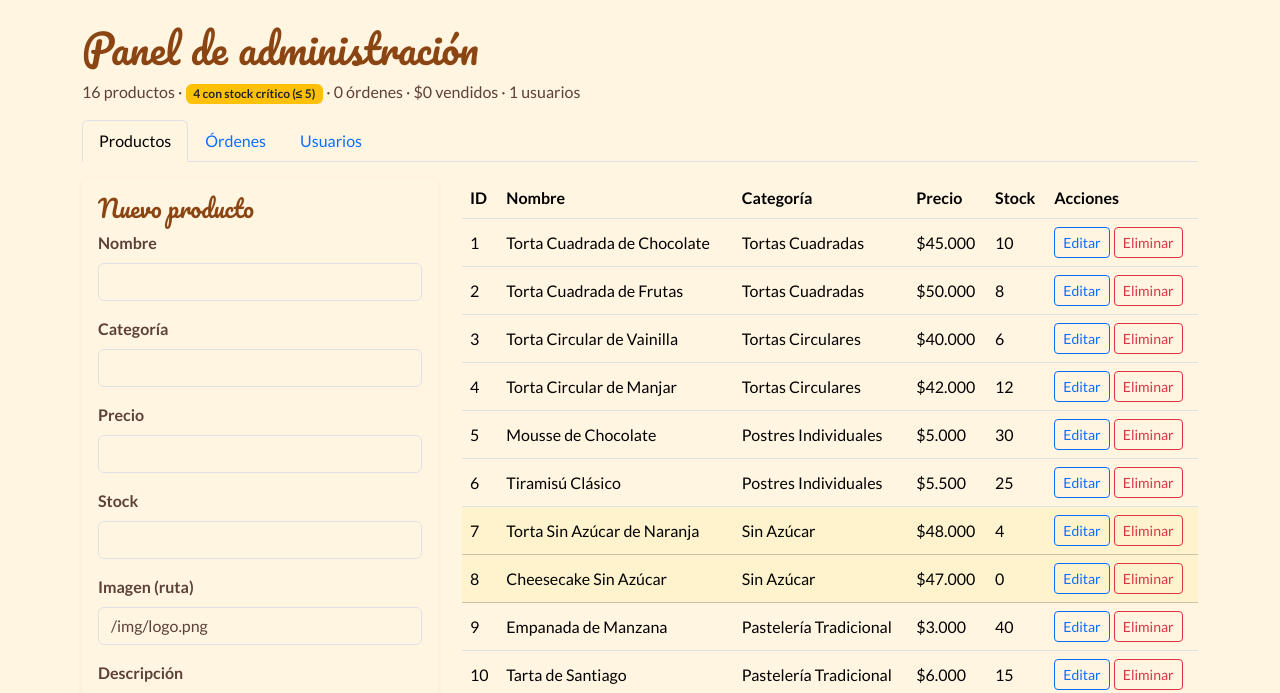
Scenario: <Admin /> (CRUD de productos) › elimina un producto de la tabla
Click the button "Eliminar" in the row of "Torta Cuadrada de Chocolate". click: click(1148, 243)
box: [1114,227,1183,258]
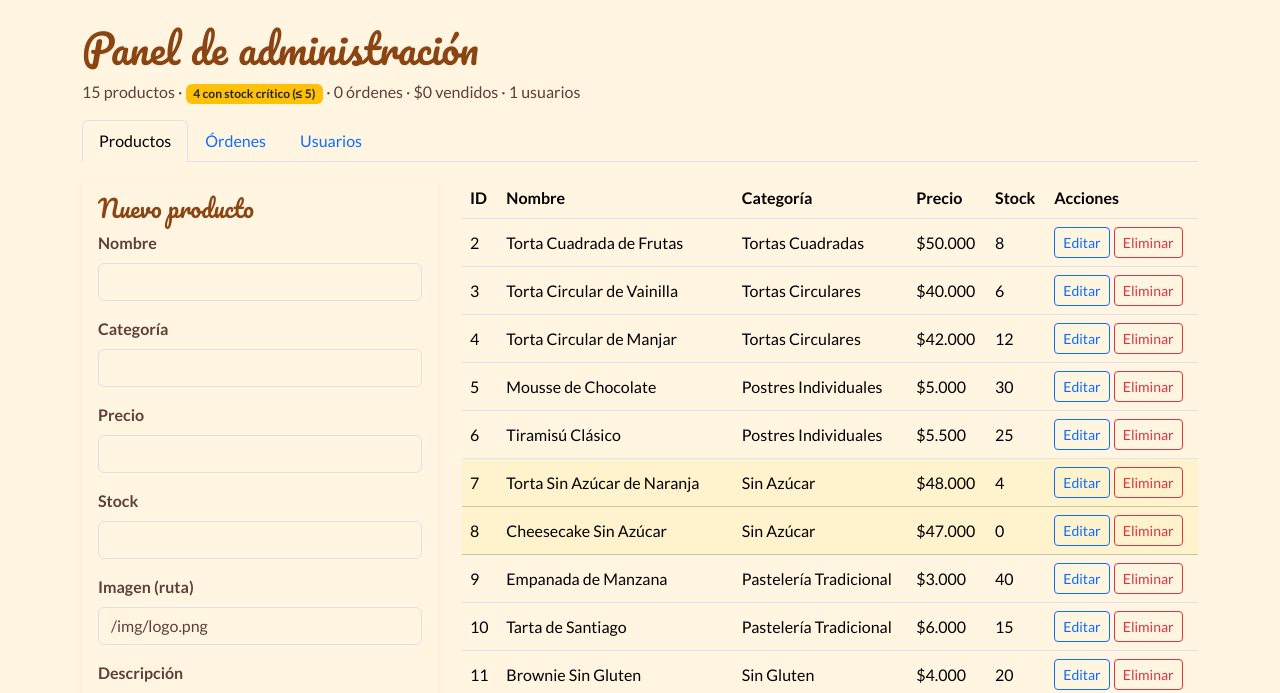
Check: the text "Torta Cuadrada de Chocolate" is gone
